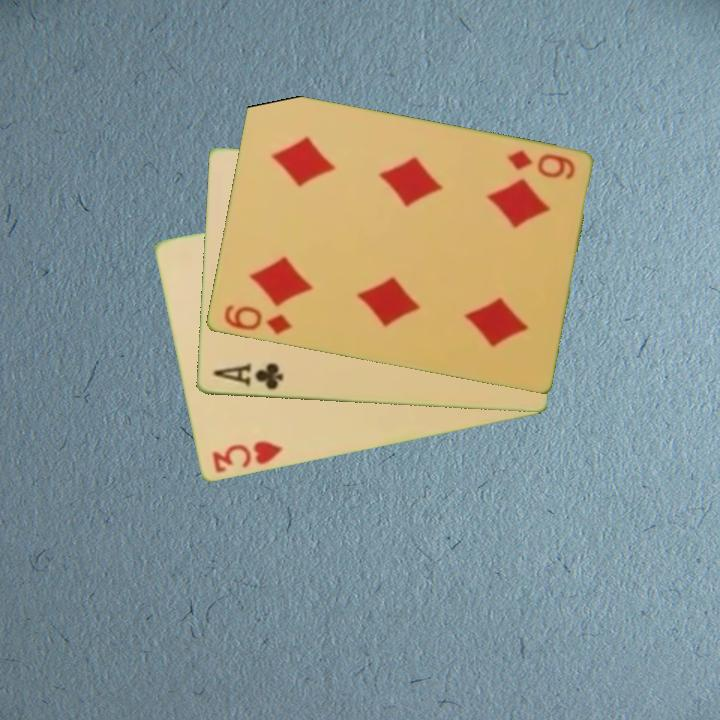3h: (208, 437, 286, 477)
6d: (220, 301, 294, 338), (502, 147, 578, 183)
Ac: (209, 359, 285, 393)
